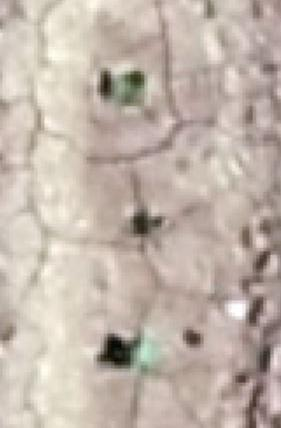cotton: (119, 71, 144, 101), (135, 340, 154, 367)
